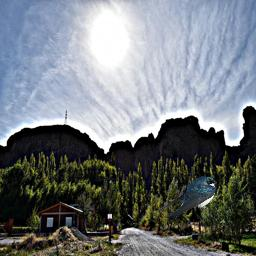Swallow: (158, 176, 217, 218)
